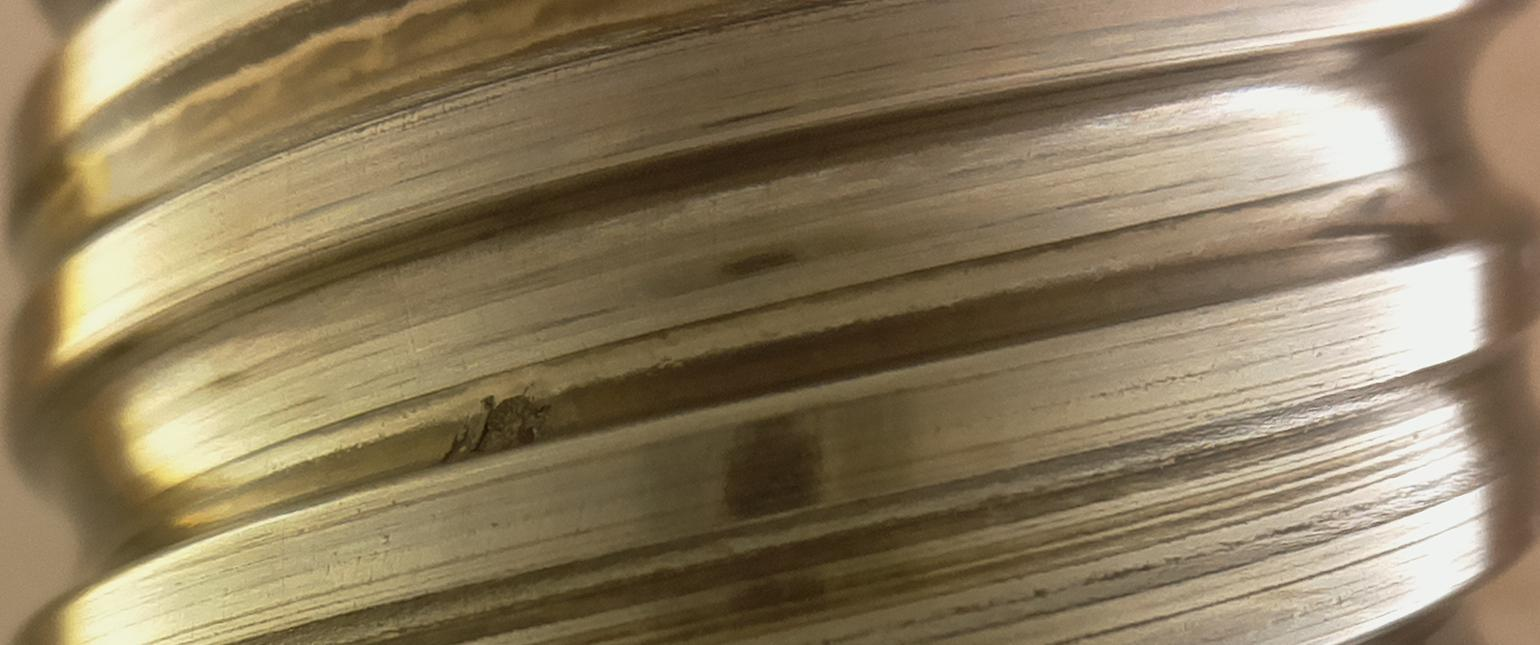pitting: (441, 386, 550, 463)
